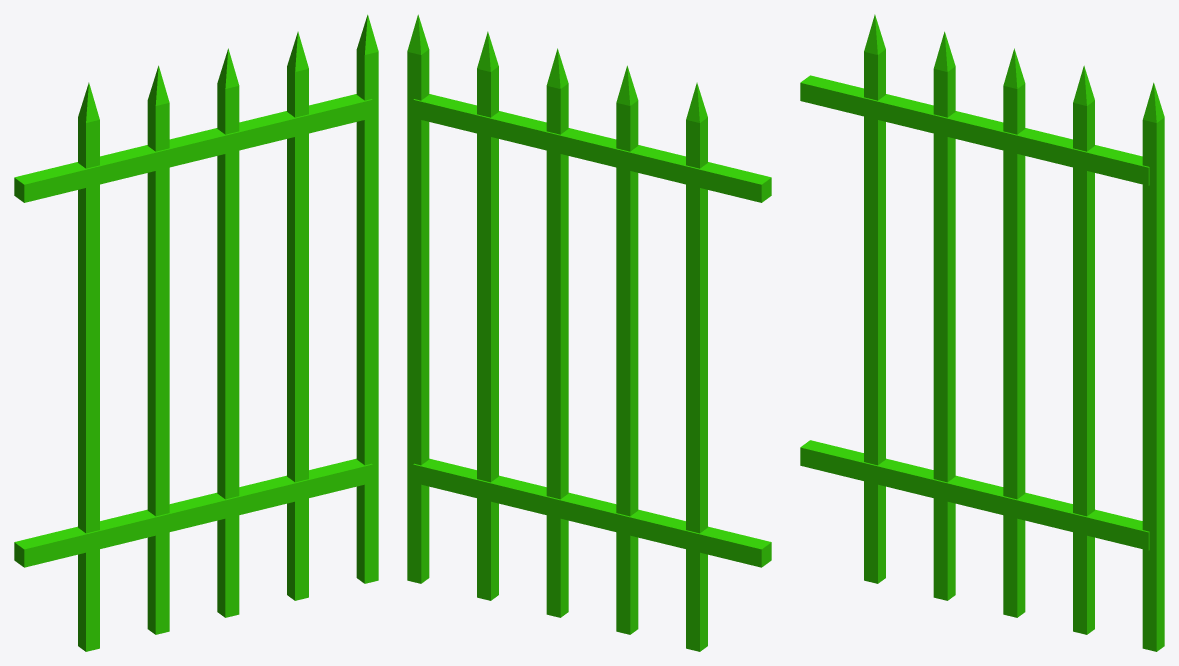
Rendered from fence2_03.fbx.
The picture shows the model from 3 angles, left to right: view 1: azimuth 30°, elevation 25°; view 2: azimuth 150°, elevation 25°; view 3: azimuth 330°, elevation 25°; orthographic projection.
Visible parts, largest first — view 1: fence2_03; view 2: fence2_03; view 3: fence2_03.
Boxes of the visible parts, <box> form: fence2_03: <box>14,14,378,651</box>; fence2_03: <box>407,14,771,651</box>; fence2_03: <box>800,14,1164,651</box>.
Bounding box in the file's own units: 102 × 155 × 5.
